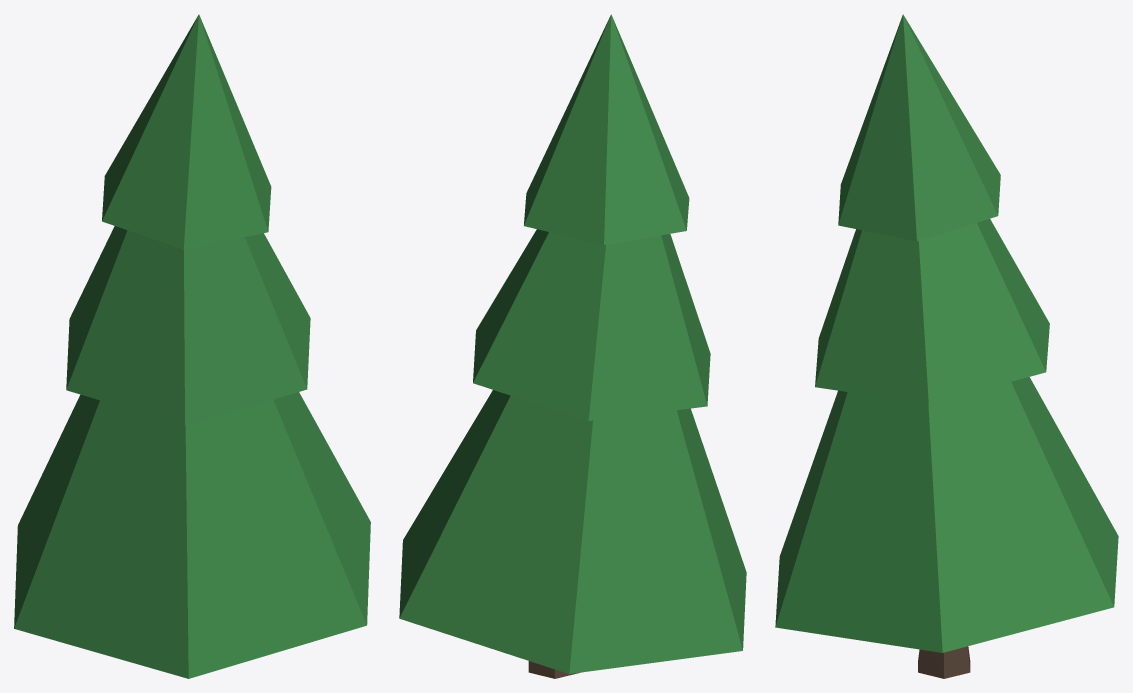
File: Tree_Pine_02.FBX
3 renders of one model, left to right at view 1: azimuth 30°, elevation 25°; view 2: azimuth 150°, elevation 25°; view 3: azimuth 270°, elevation 25°, orthographic. The views are drawn at different scales.
Visible parts, largest first — view 1: Tree_Pine_02; view 2: Tree_Pine_02; view 3: Tree_Pine_02.
Boxes of the visible parts, x1,y1,x2,y2 form: Tree_Pine_02: (14, 14, 370, 678); Tree_Pine_02: (399, 14, 746, 678); Tree_Pine_02: (775, 14, 1118, 678).
Bounding box in the file's own units: 7657 × 13709 × 6712.
